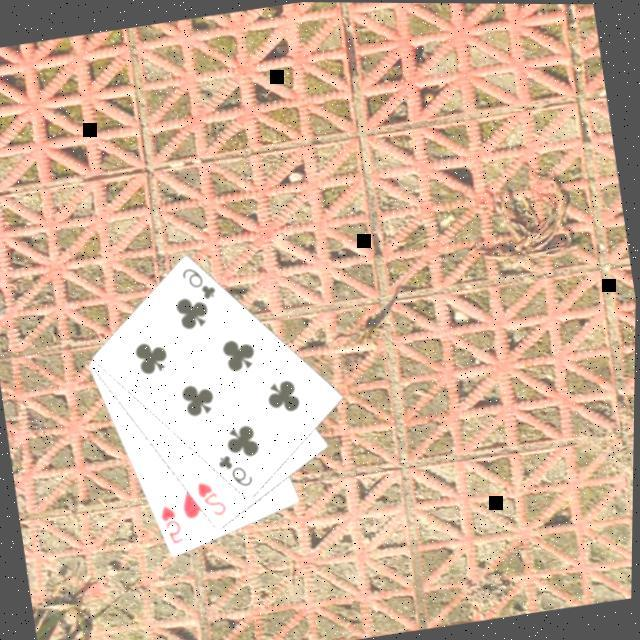2H: (192, 474, 231, 520)
5H: (156, 498, 188, 548)
6C: (212, 446, 258, 492), (176, 259, 221, 304)
